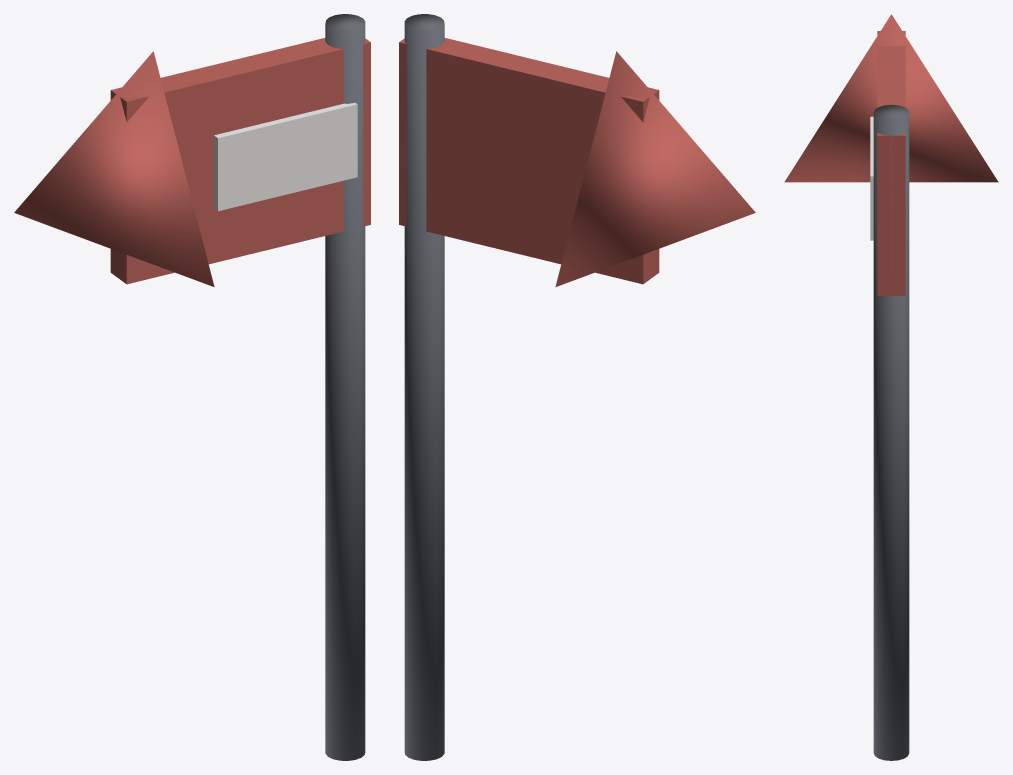
Rendered from prop_tate_arrow_l.glb.
3 renders of one model, left to right at view 1: azimuth 30°, elevation 25°; view 2: azimuth 150°, elevation 25°; view 3: azimuth 270°, elevation 25°, orthographic. The views are drawn at different scales.
Visible parts, largest first — view 1: tate_arrow_l; view 2: tate_arrow_l; view 3: tate_arrow_l.
Boxes of the visible parts, x1,y1,x2,y2 form: tate_arrow_l: (14, 14, 370, 760); tate_arrow_l: (399, 14, 755, 760); tate_arrow_l: (784, 14, 998, 760).
Size of the model in its own units: 1 by 2.05 by 0.6062.
